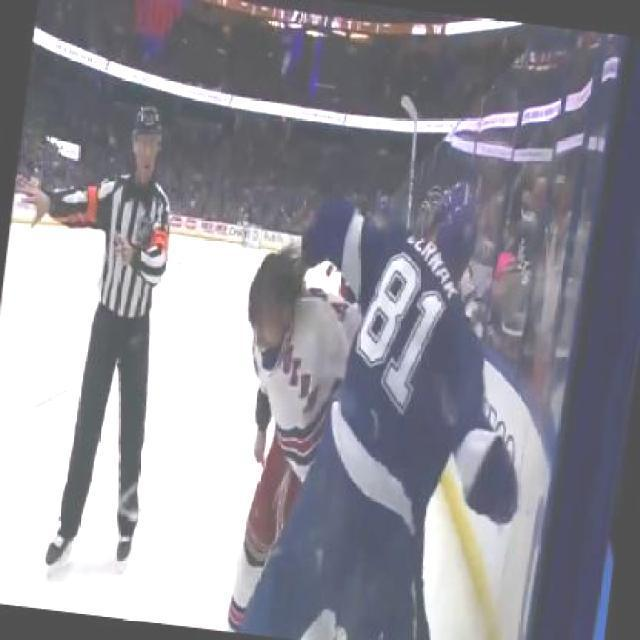fight: (205, 156, 538, 638)
non-fight: (32, 91, 188, 594)
